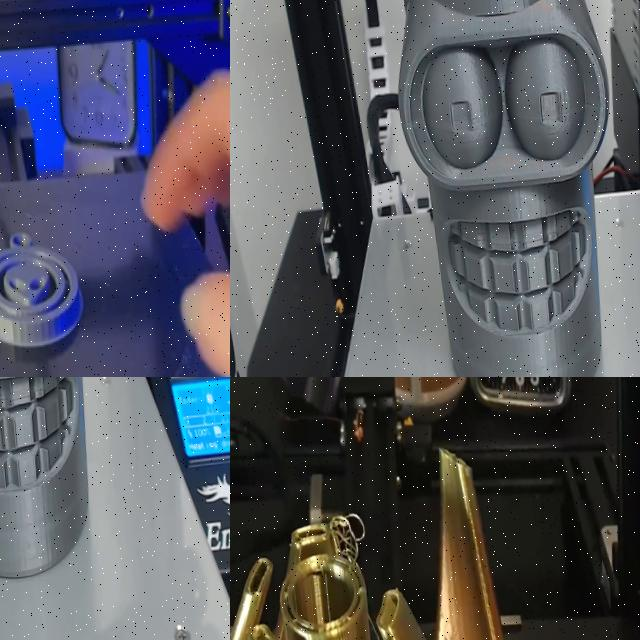spaghetti: (318, 496, 368, 564), (367, 620, 384, 640)
